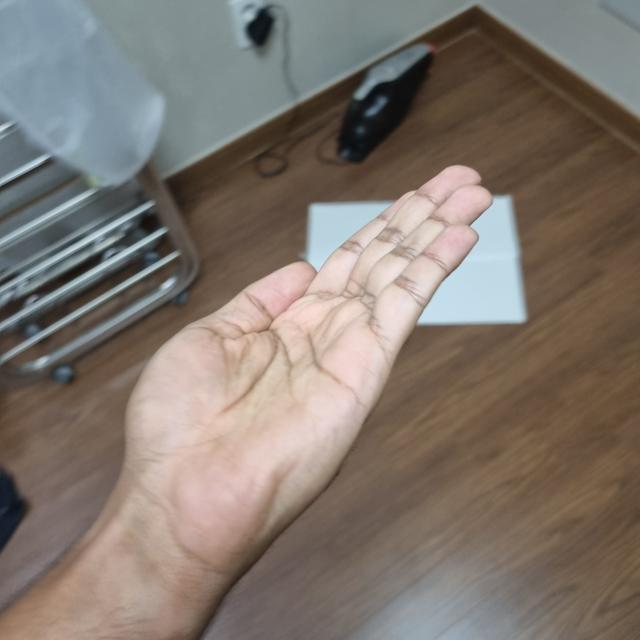Paper: (121, 167, 490, 554)
